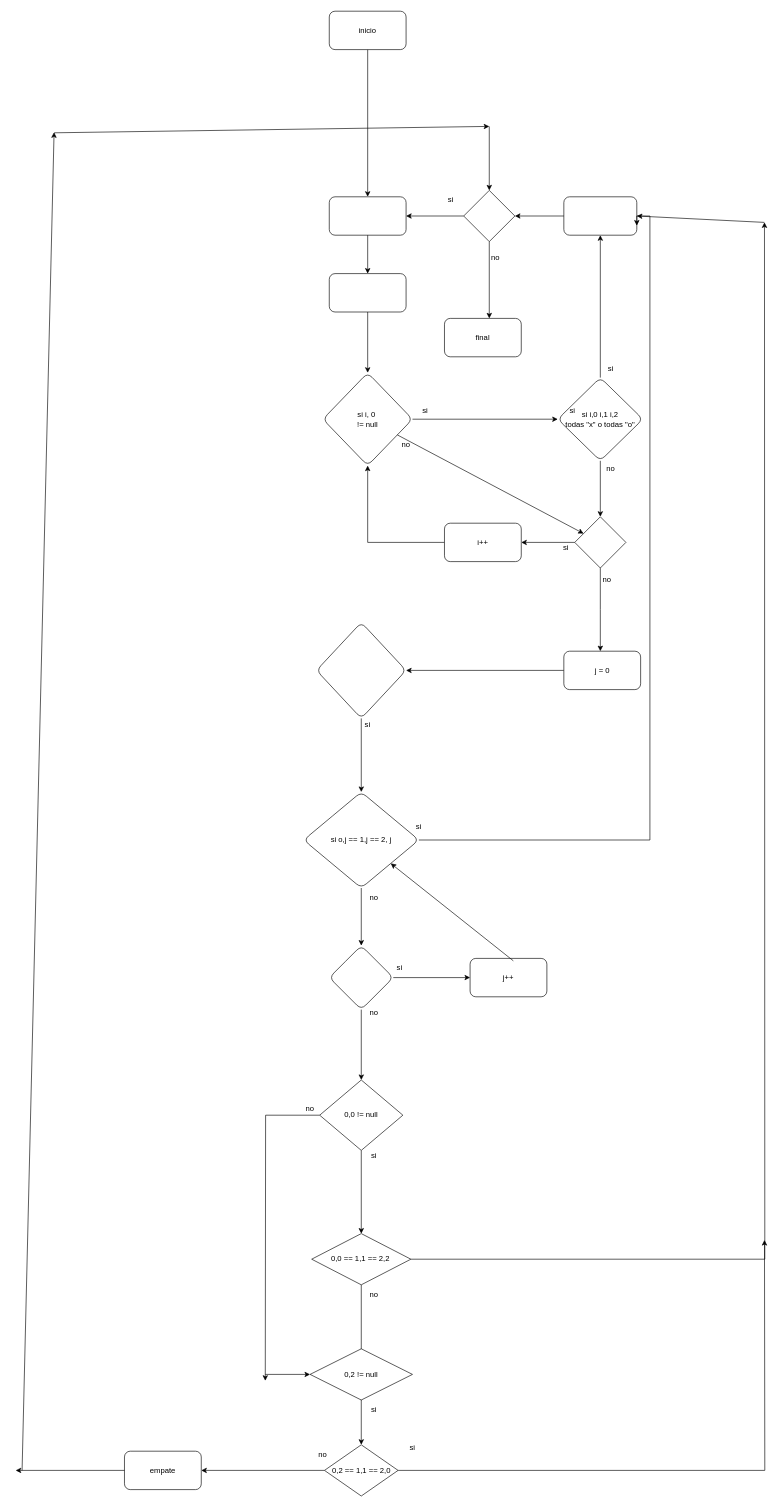
Image size: 781x1507. Some labels were removed from this diagram. Each missing label, with the centre of its shape:
"x" o "o" winer: (600,215)
i = 0: (367,292)
Inicializa juego: (367,215)
si i < 2: (600,542)
si j < 2: (361,977)
si o, j != null: (361,670)
¿quieres jugadr?: (489,216)
